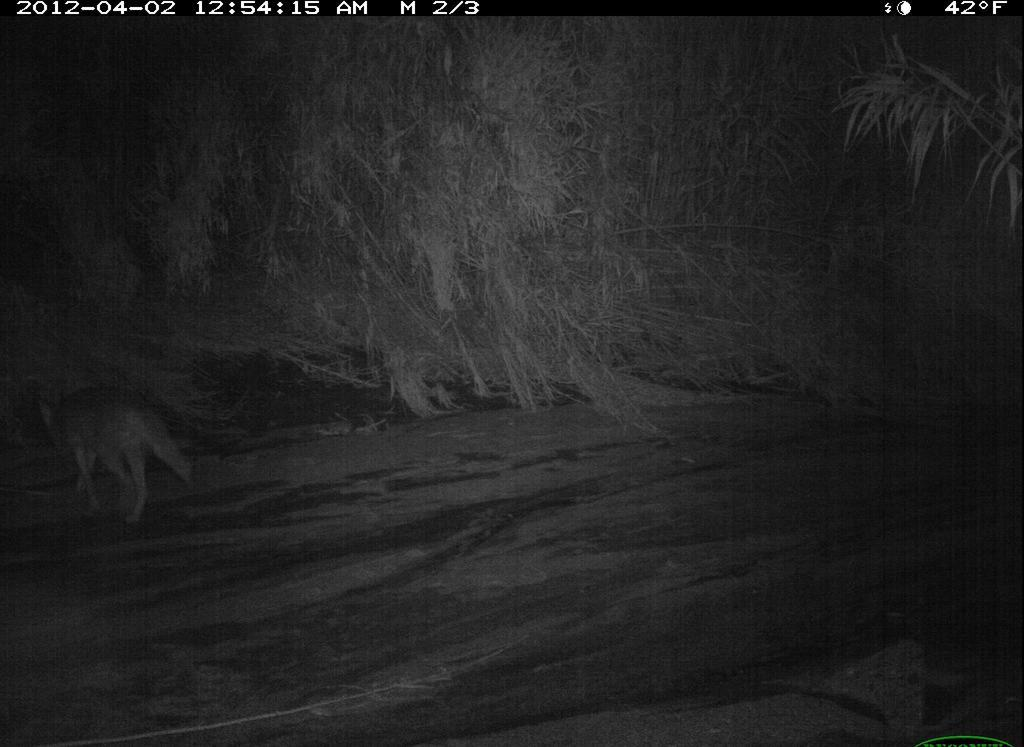coyote: (36, 382, 199, 523)
